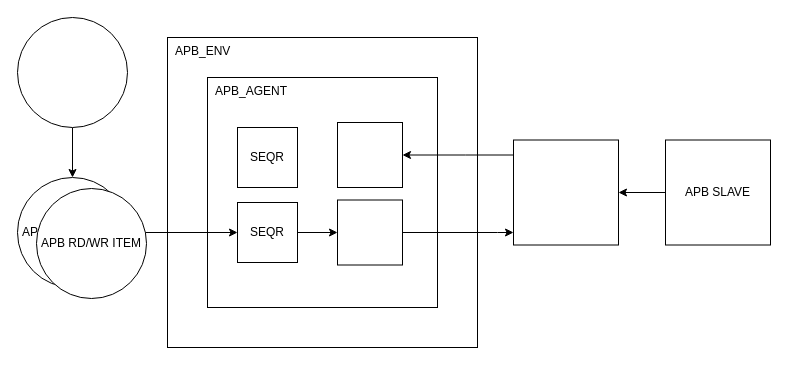
The diagram is 788 pixels wide and 365 high, and some of its shapes have lost their labels. The shapes that lost their labels are listed below. From the top down, each one's centre as x and y in pixels, then its label:
At point 72,72: "APB_SEQ".
At point 369,155: "MONITOR".
At point 565,192: "APB INTERFACE".
At point 369,232: "DRIVER".
